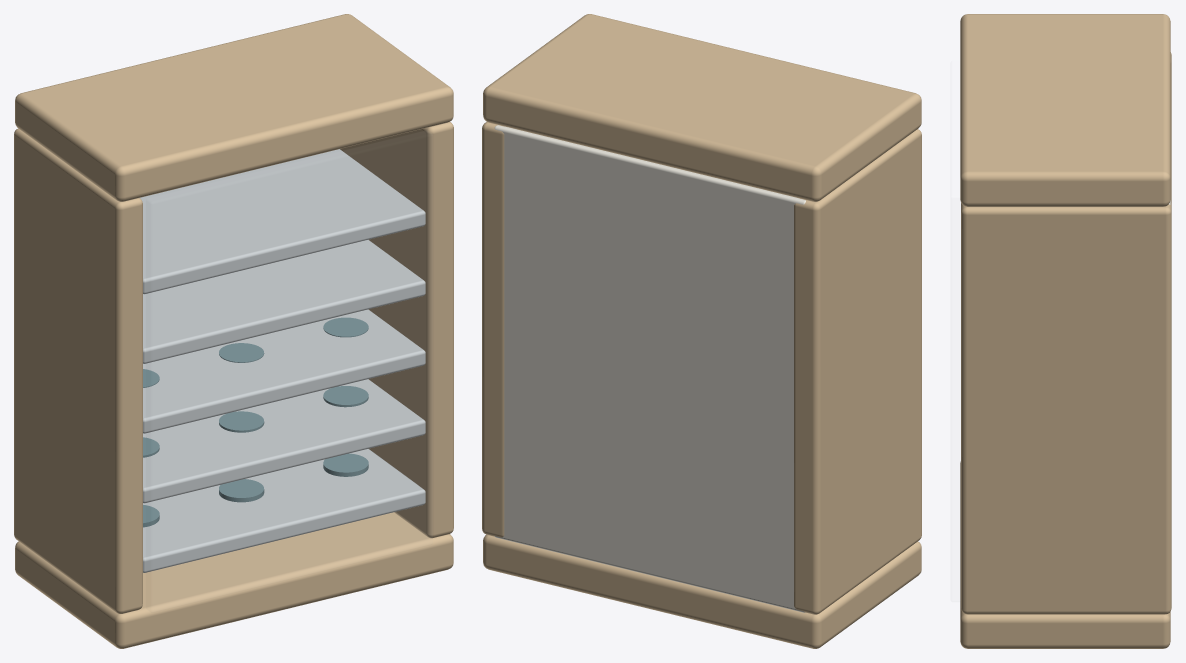
Rendered from camera-repair-and-darkroom-laboratory-lens-element-sto-7719415e__31781.glb.
The picture shows the model from 3 angles, left to right: view 1: azimuth 30°, elevation 25°; view 2: azimuth 150°, elevation 25°; view 3: azimuth 270°, elevation 25°; orthographic projection.
Visible parts, largest first — view 1: lens-element-storage-cabinet; view 2: lens-element-storage-cabinet; view 3: lens-element-storage-cabinet.
Part boxes in pixels (box(x1,y1,x2,y2)): lens-element-storage-cabinet: box(14, 14, 453, 648); lens-element-storage-cabinet: box(482, 14, 921, 648); lens-element-storage-cabinet: box(960, 14, 1171, 648).
Size of the model in its own units: 0.55 by 0.75 by 0.3152.
